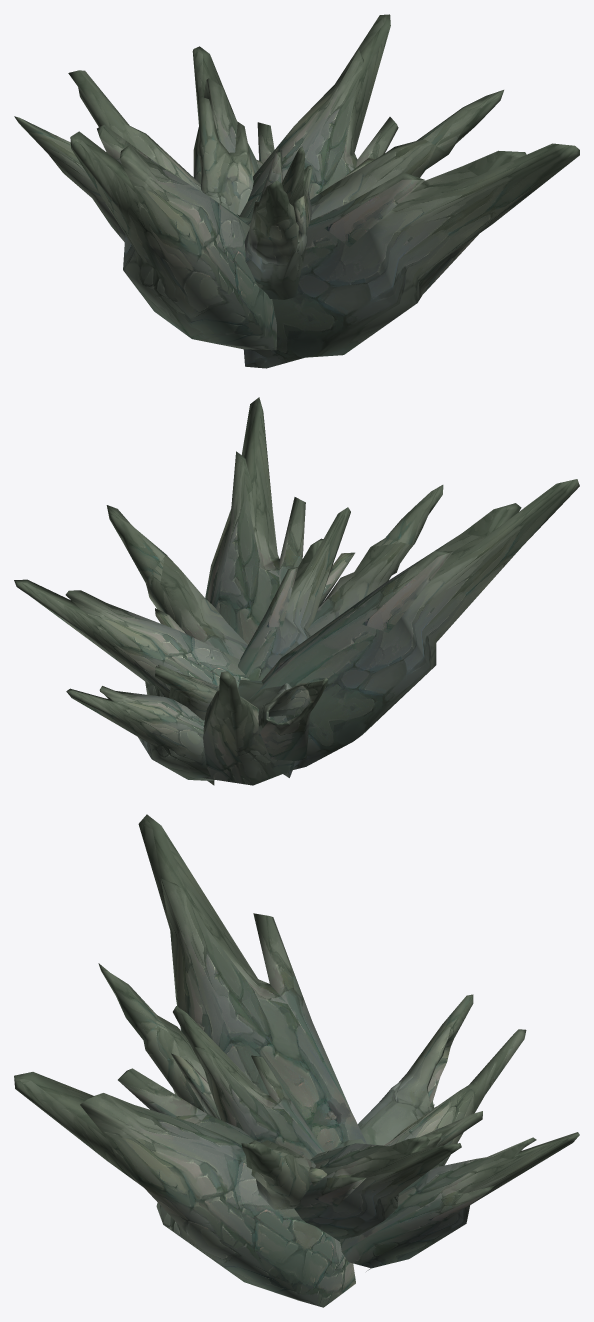
Rendered from DN_lv2_hsstone06.FBX.
3 renders of one model, top to bottom at view 1: azimuth 30°, elevation 25°; view 2: azimuth 150°, elevation 25°; view 3: azimuth 270°, elevation 25°, orthographic. The views are drawn at different scales.
Visible parts, largest first — view 1: DN_lv2_hsstone06; view 2: DN_lv2_hsstone06; view 3: DN_lv2_hsstone06.
Part boxes in pixels (x1,y1,x2,y2): DN_lv2_hsstone06: [14, 14, 579, 368]; DN_lv2_hsstone06: [14, 397, 579, 785]; DN_lv2_hsstone06: [14, 814, 579, 1307].
Bounding box in the file's own units: 3174 × 2188 × 3370.
